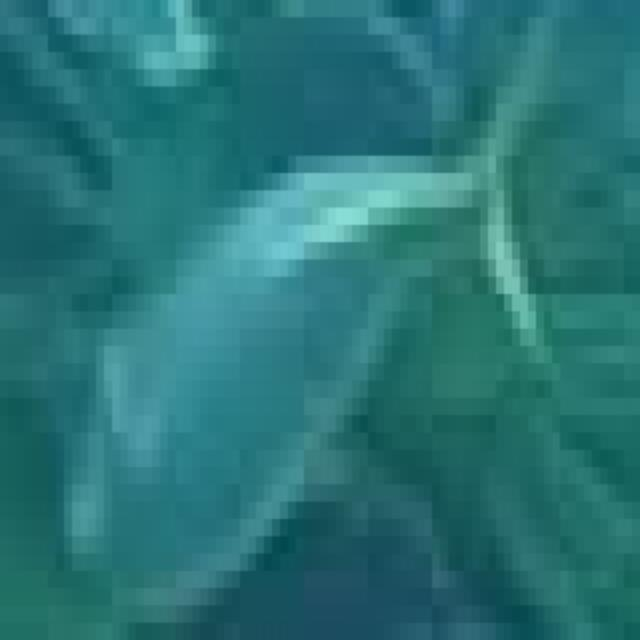fish: (8, 17, 640, 640)
